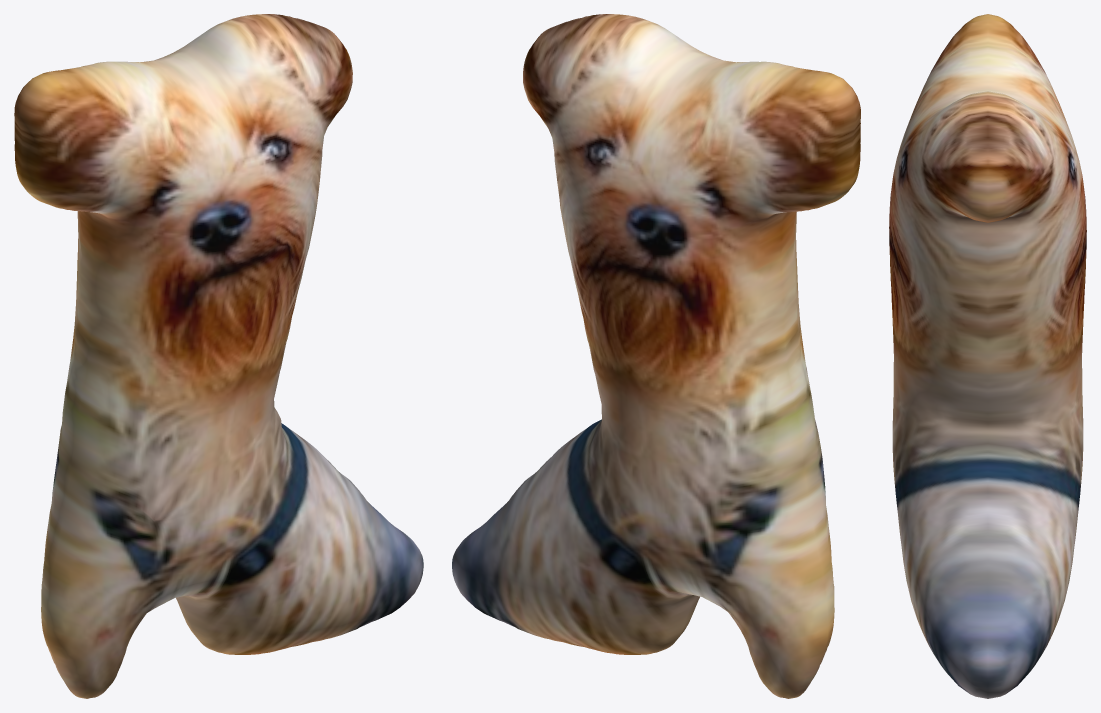
Rendered from mm_project-v1.glb.
3 renders of one model, left to right at view 1: azimuth 30°, elevation 25°; view 2: azimuth 150°, elevation 25°; view 3: azimuth 270°, elevation 25°, orthographic. The views are drawn at different scales.
Bounding box in the file's own units: 3.88 × 5.9 × 1.9.
1 material, 1 textured.
